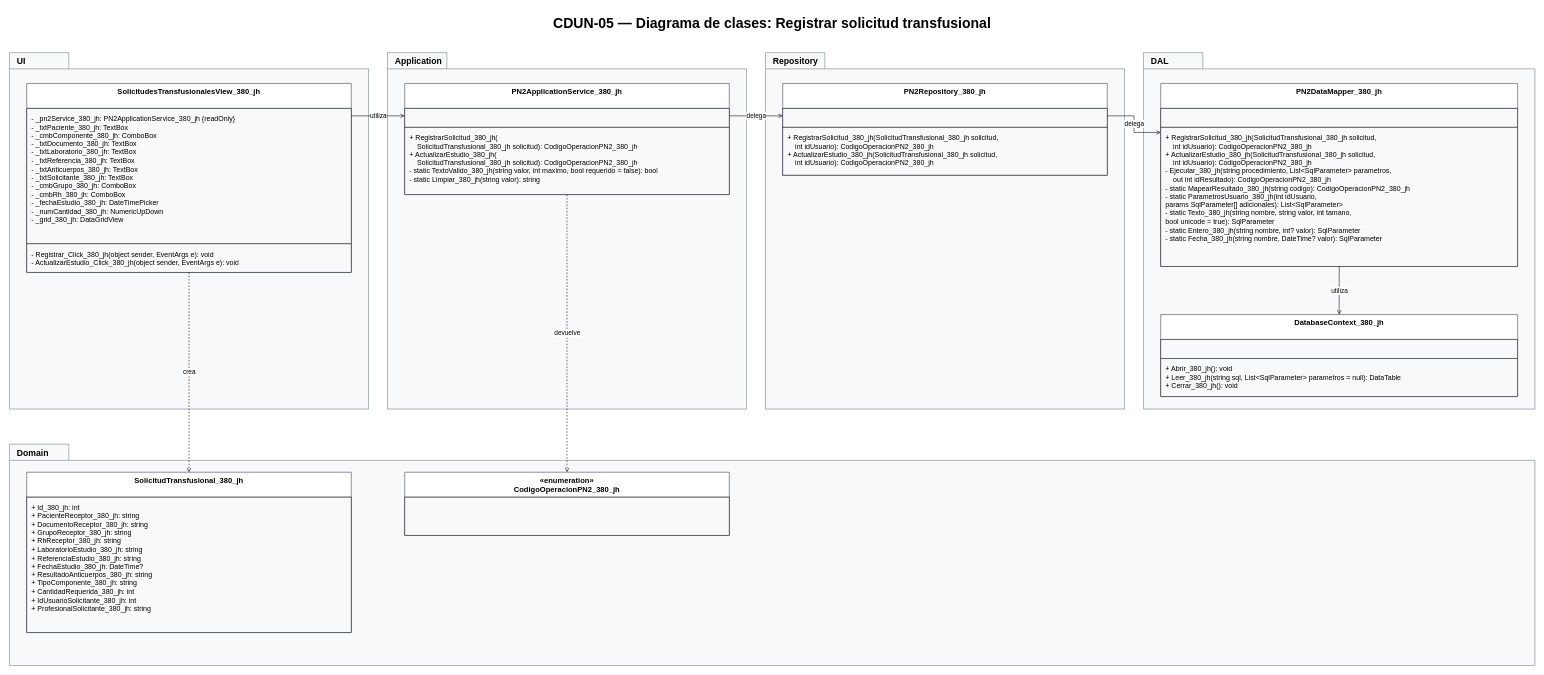
Some shapes in this 1544 by 675 pixel diagram are drawn without their labels. The shapes that lost their labels are listed below. From the top down, each one's centre as x and y in pixels, then its label:
the point at 566,117: - _repository_380_jh: PN2Repository_380_jh {readOnly}
the point at 944,117: - _mapper_380_jh: PN2DataMapper_380_jh {readOnly}
the point at 1339,117: - _databaseContext_380_jh: DatabaseContext_380_jh {readOnly}
the point at 1339,348: + Conexion_380_jh: SqlConnection {readOnly}
the point at 566,516: Ok_380_jh DatosInvalidos_380_jh ConflictoEstado_380_jh
